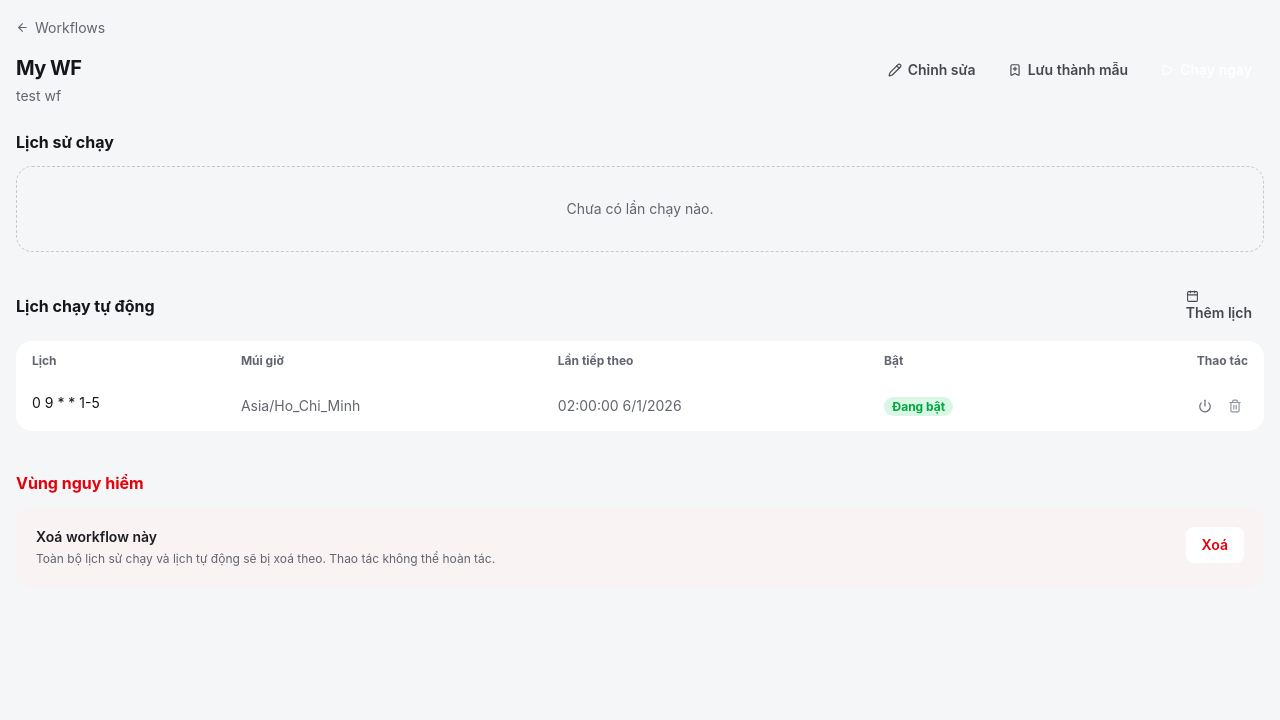
WorkflowDetailClient — schedule actions › delete confirmed → success: row removed from DOM
expect the button "0 9 * * 1-5" is shown: met, box [32,392,100,412]
Click the button named "Xoá lịch": {"x": 1235, "y": 406} [1222,392,1248,418]
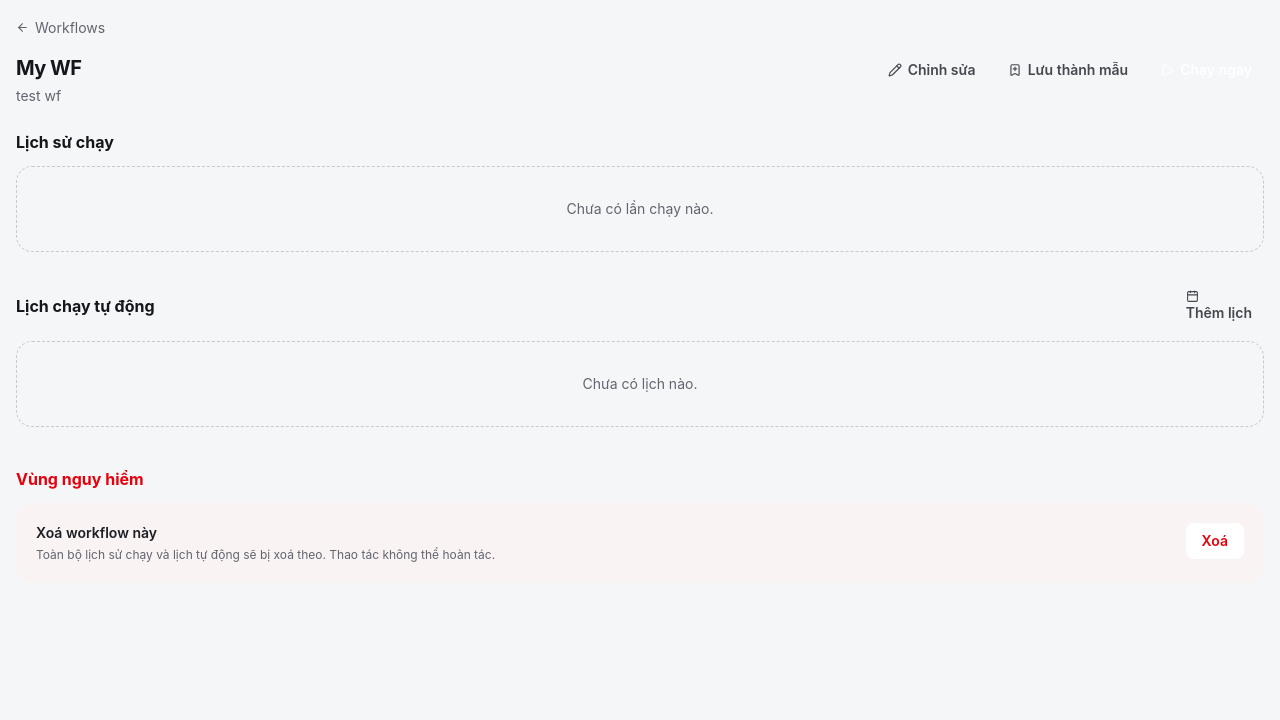
expect the button "0 9 * * 1-5" is gone: met
